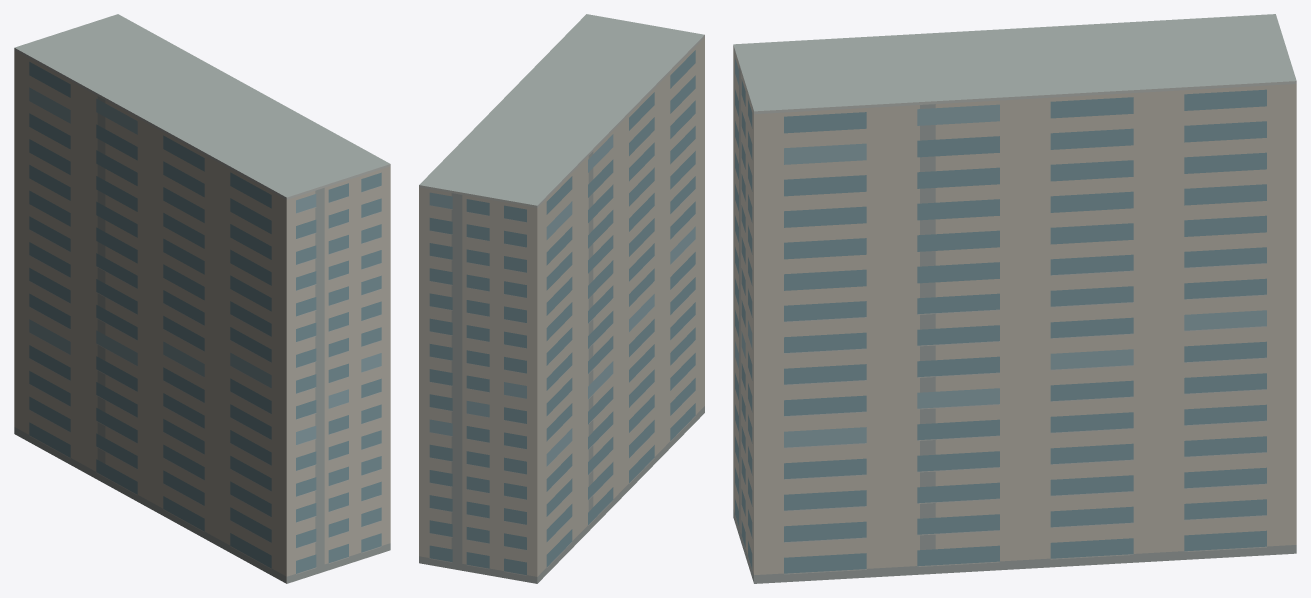
File: residential-2efbb3e2-8217-4f29-8ccd-cbaaf0a78046.glb
3 views of the same model, side by side, from view 1: azimuth 30°, elevation 25°; view 2: azimuth 150°, elevation 25°; view 3: azimuth 270°, elevation 25° (orthographic). The views are drawn at different scales.
Visible parts, largest first — view 1: residential-2efbb3e2-8217-4f29-8ccd-cbaaf0a78046.tmp; view 2: residential-2efbb3e2-8217-4f29-8ccd-cbaaf0a78046.tmp; view 3: residential-2efbb3e2-8217-4f29-8ccd-cbaaf0a78046.tmp.
Part boxes in pixels (<box>): residential-2efbb3e2-8217-4f29-8ccd-cbaaf0a78046.tmp: <box>14,14,390,583</box>; residential-2efbb3e2-8217-4f29-8ccd-cbaaf0a78046.tmp: <box>419,14,704,583</box>; residential-2efbb3e2-8217-4f29-8ccd-cbaaf0a78046.tmp: <box>733,14,1296,583</box>.
Bounding box in the file's own units: 17.68 × 40 × 43.24.
